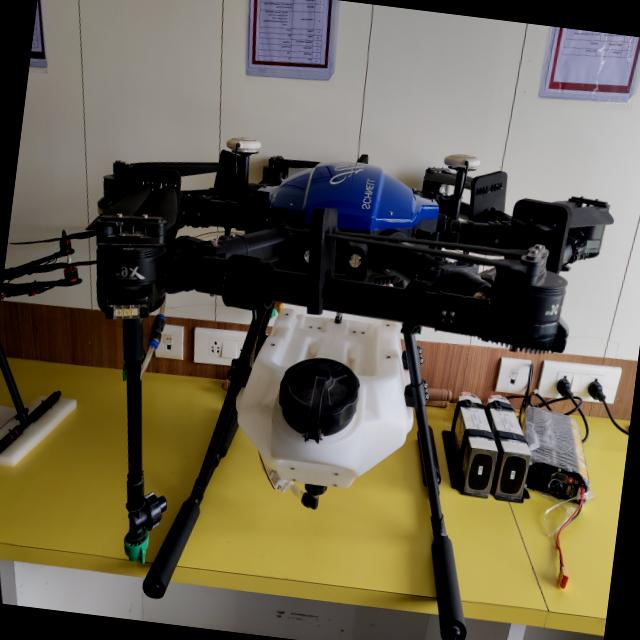agriculturedrone: (24, 105, 618, 640)
